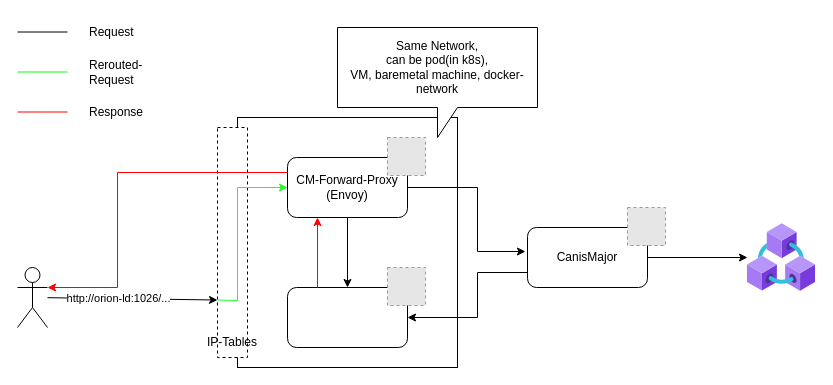
This 833x385 diagram has some shape labels left out. Grey dashed boxes stand in for pictures. Here are the shapes that lost their labels. From the top down, the box of each, then its label:
(16, 266, 48, 328): Actor
(286, 286, 408, 348): Orion-LD
